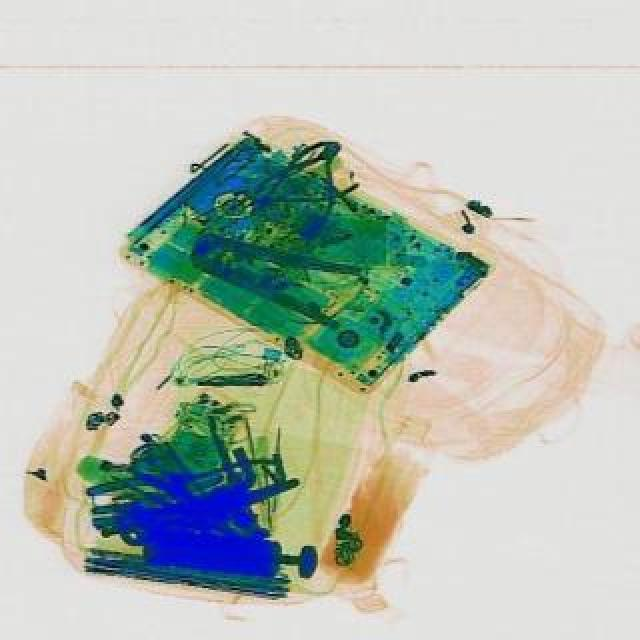wrench: (184, 218, 368, 330), (244, 122, 374, 248), (240, 134, 370, 230)
